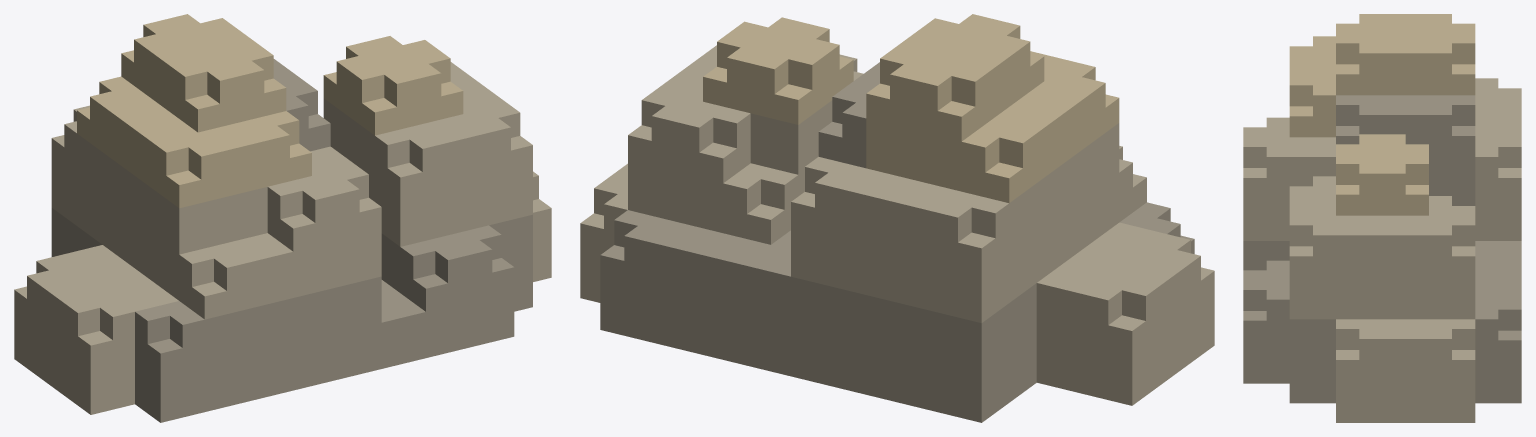
The model's file is hearthvale_rock_split.obj.
3 renders of one model, left to right at view 1: azimuth 30°, elevation 25°; view 2: azimuth 150°, elevation 25°; view 3: azimuth 270°, elevation 25°, orthographic. The views are drawn at different scales.
Visible parts, largest first — view 1: palette_11, palette_10, palette_6; view 2: palette_11, palette_10, palette_6; view 3: palette_11, palette_10, palette_6.
Part boxes in pixels (x1,y1,x2,y2): palette_11: [14, 62, 551, 414]; palette_10: [51, 59, 532, 422]; palette_6: [77, 14, 463, 208]; palette_11: [580, 45, 1214, 405]; palette_10: [600, 62, 1194, 422]; palette_6: [703, 14, 1119, 202]; palette_11: [1243, 78, 1521, 422]; palette_10: [1243, 95, 1521, 403]; palette_6: [1289, 14, 1475, 215].
Bounding box in the file's own units: 1.38 × 0.75 × 0.75.
